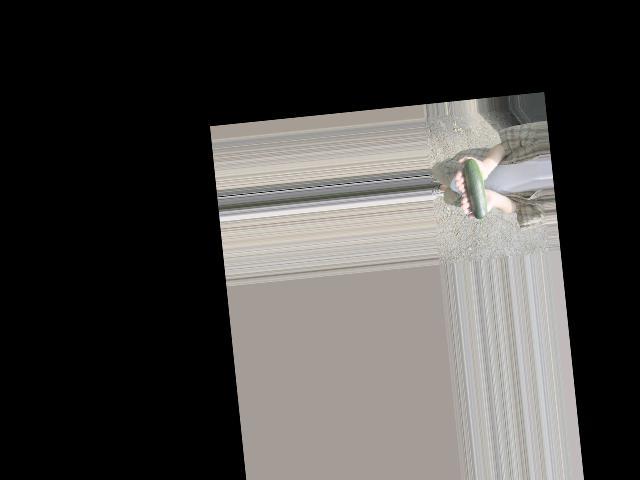cucumber: (462, 158, 488, 227)
